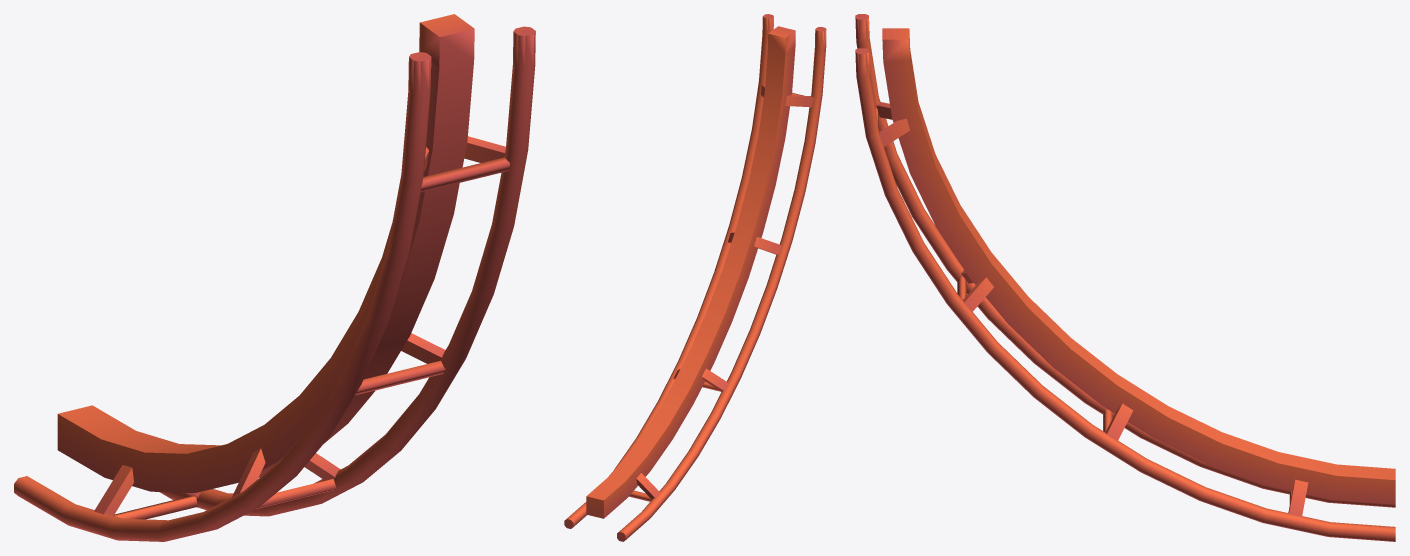
Rendered from coaster-hanging-straight-bend-large.glb.
3 views of the same model, side by side, from view 1: azimuth 30°, elevation 25°; view 2: azimuth 150°, elevation 25°; view 3: azimuth 270°, elevation 25° (orthographic). The views are drawn at different scales.
Visible parts, largest first — view 1: coaster-hanging-straight-bend-large; view 2: coaster-hanging-straight-bend-large; view 3: coaster-hanging-straight-bend-large.
Part boxes in pixels (x1,y1,x2,y2): coaster-hanging-straight-bend-large: [14, 14, 535, 541]; coaster-hanging-straight-bend-large: [564, 14, 826, 541]; coaster-hanging-straight-bend-large: [855, 14, 1395, 541].
Bounding box in the file's own units: 2.1 × 12 × 12.
1 material, 1 textured.
